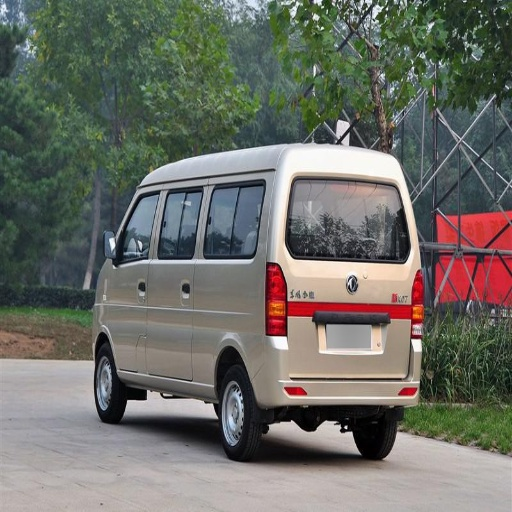back_bumper: (295, 371, 420, 407)
back_glass: (313, 181, 403, 261)
back_left_door: (179, 184, 258, 265)
back_right_door: (284, 173, 356, 258)
trunk: (165, 265, 414, 405)
